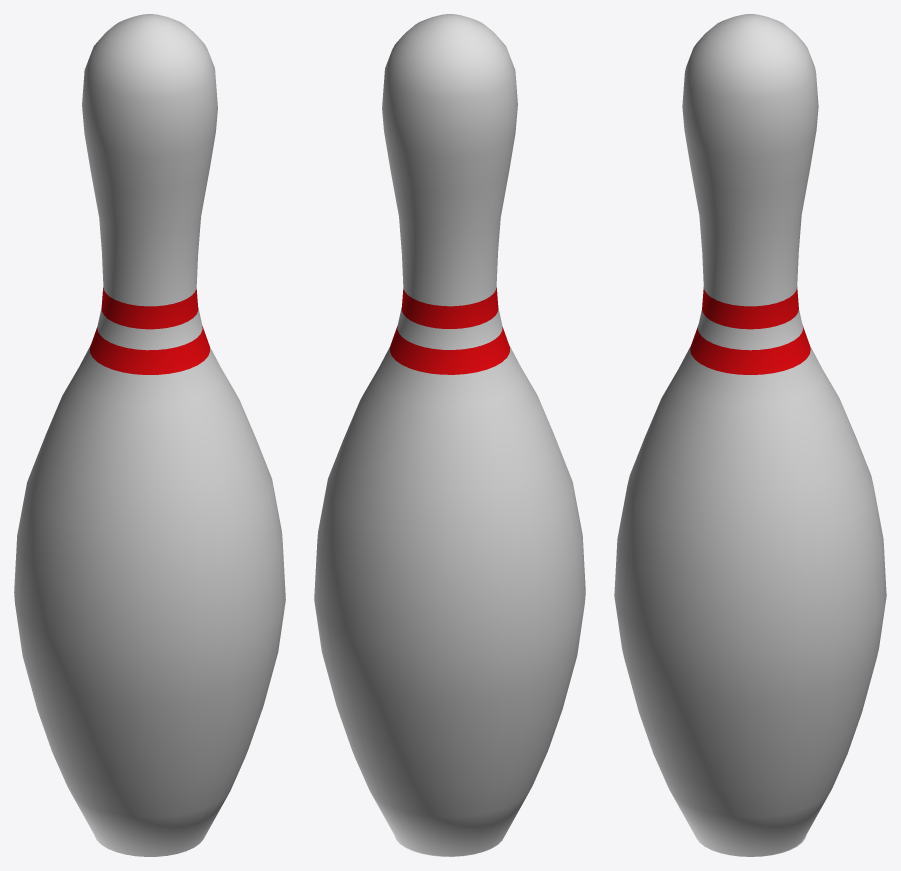
File: Bowling Pin.fbx
3 views of the same model, side by side, from view 1: azimuth 30°, elevation 25°; view 2: azimuth 150°, elevation 25°; view 3: azimuth 270°, elevation 25° (orthographic).
Visible parts, largest first — view 1: Circle; view 2: Circle; view 3: Circle.
Boxes of the visible parts, box(x1,y1,x2,y2) form: Circle: box(14, 14, 285, 856); Circle: box(314, 14, 585, 856); Circle: box(614, 14, 886, 856).
Bounding box in the file's own units: 160 × 530 × 160.
